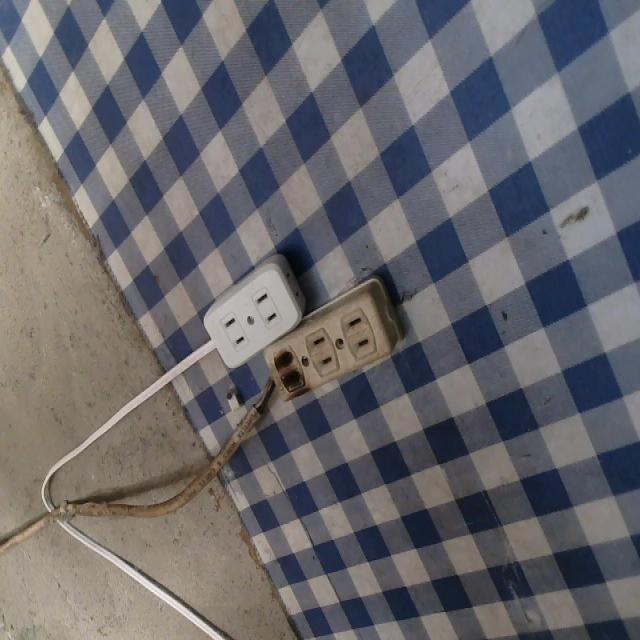-: (265, 344, 307, 397)
